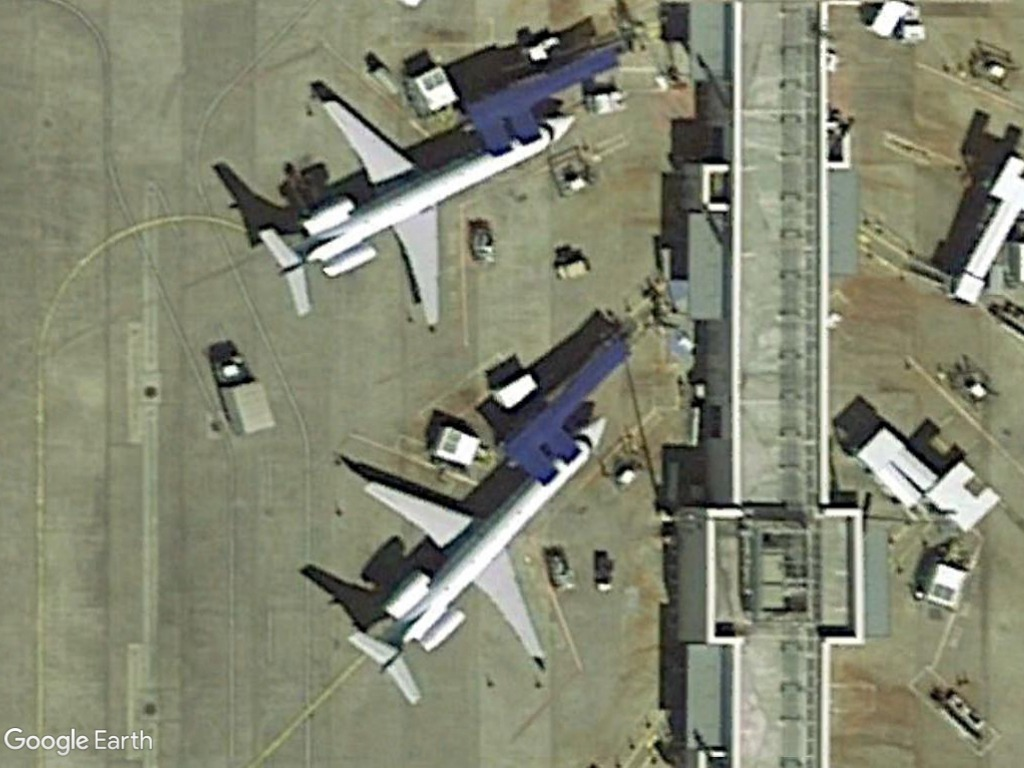chartered: (242, 83, 582, 344), (345, 408, 611, 709)
